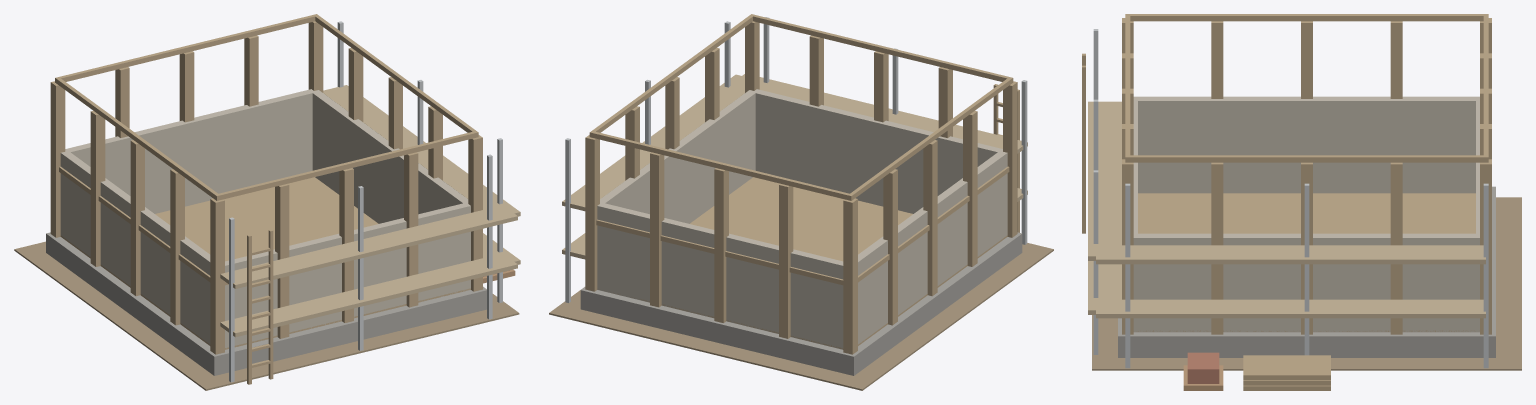
File: winery_site_6.glb
3 views of the same model, side by side, from view 1: azimuth 30°, elevation 25°; view 2: azimuth 150°, elevation 25°; view 3: azimuth 270°, elevation 25° (orthographic). The views are drawn at different scales.
Visible parts, largest first — view 1: body; view 2: body; view 3: body.
Part boxes in pixels (x1=…): body: x1=14, y1=14, x2=520, y2=390; body: x1=549, y1=14, x2=1053, y2=390; body: x1=1082, y1=14, x2=1521, y2=390.
Size of the model in its own units: 2.28 by 1.11 by 2.21.
